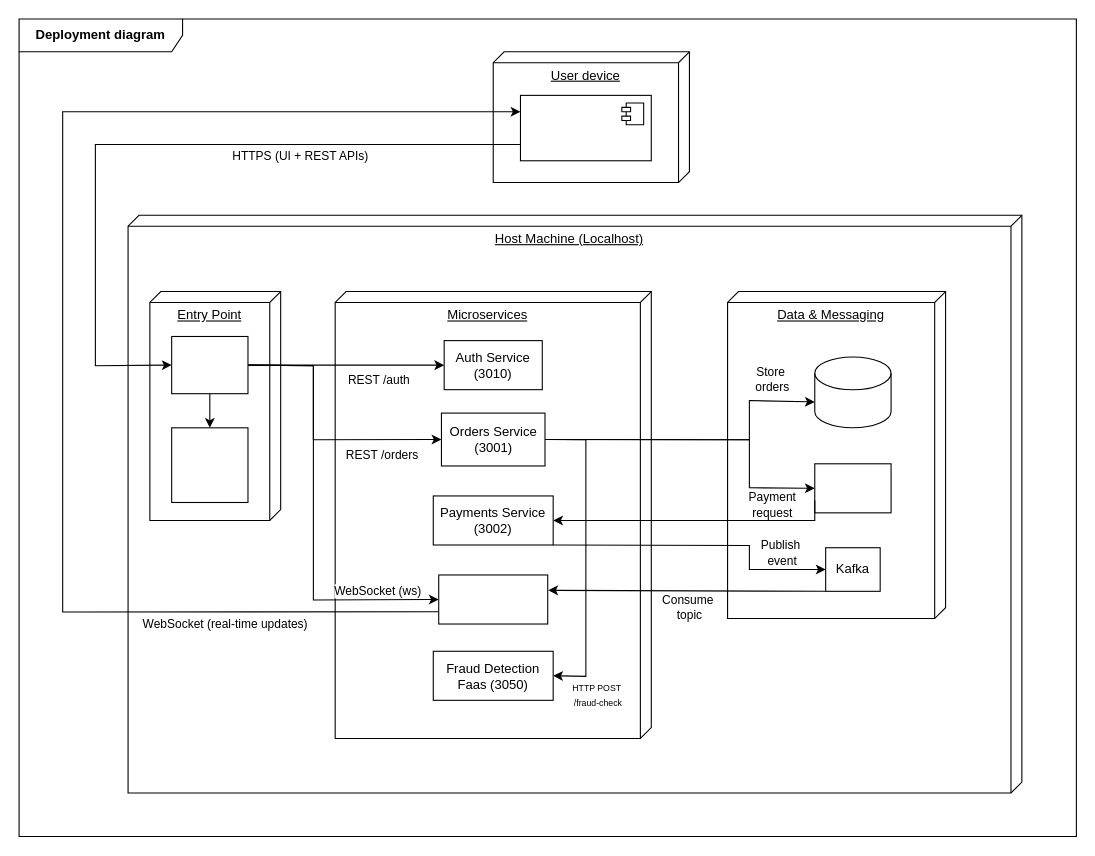
Image size: 1095x856. Some labels were removed from this diagram. Here are the shapes that lost their labels. From the top down, the centre of each, then its label:
At point (585, 127): "Browser".
At point (209, 364): "Nginx (Reverse Proxy) 8081".
At point (852, 392): "MongoDB".
At point (209, 464): "API Gateway (Node.js) 8080".
At point (852, 488): "RabbitMQ".
At point (493, 599): "Notifications Service ( 3003)".
